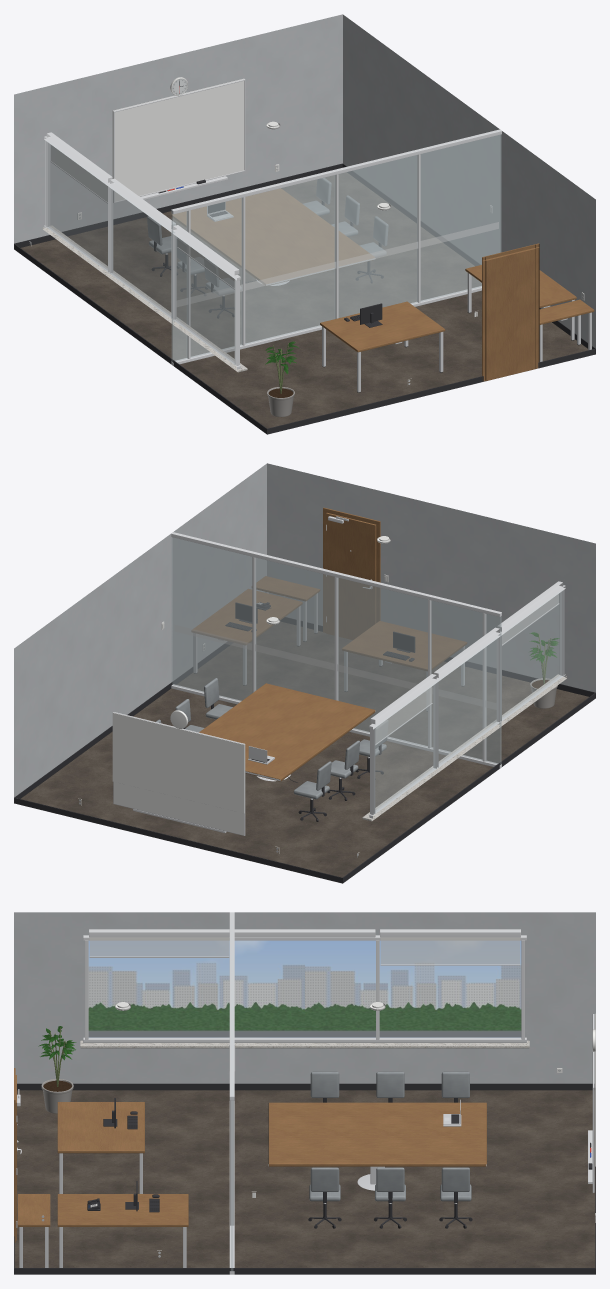
The model's file is rc_office.glb.
3 views of the same model, one above another, from view 1: azimuth 30°, elevation 25°; view 2: azimuth 150°, elevation 25°; view 3: azimuth 270°, elevation 25° (orthographic). The views are drawn at different scales.
Parts seen in each view (by area): view 1: floor, f10_유리벽, part_0, wall_z0, wall_x1, f9_창, f8_화이트보드, f0_회의 탁자, deco_door, f10_유리벽_frame, f9_창_frame, f13_책상 (+17 smaller); view 2: floor, wall_z1, wall_x1, f10_유리벽, part_0, f9_창, mirror_0, f0_회의 탁자, deco_door, f10_유리벽_frame, f9_창_frame, f8_화이트보드 (+14 smaller); view 3: floor, wall_x0, f9_창_view, f9_창, f0_회의 탁자, deco_blinds, f9_창_frame, f13_책상, f11_책상, skirt_x1, skirt_x0, f10_유리벽_frame (+11 smaller).
Boxes of the visible parts, x1,y1,x2,y2 form: floor: (21, 172, 595, 428); f10_유리벽: (172, 134, 501, 361); part_0: (172, 135, 500, 362); wall_z0: (14, 14, 342, 243); wall_x1: (343, 14, 595, 348); f9_창: (46, 141, 235, 365); f8_화이트보드: (113, 79, 245, 202); f0_회의 탁자: (171, 188, 374, 285); deco_door: (486, 248, 535, 380); f10_유리벽_frame: (171, 129, 501, 365); f9_창_frame: (42, 136, 247, 372); f13_책상: (320, 301, 445, 392); floor: (21, 622, 588, 881); wall_z1: (267, 463, 595, 692); wall_x1: (14, 463, 266, 797); f10_유리벽: (172, 537, 501, 764); part_0: (172, 537, 500, 763); f9_창: (374, 590, 563, 814); mirror_0: (112, 712, 244, 813); f0_회의 탁자: (199, 683, 375, 781); deco_door: (326, 512, 376, 639); f10_유리벽_frame: (171, 532, 501, 768); f9_창_frame: (362, 585, 567, 821); f8_화이트보드: (113, 712, 245, 835); floor: (14, 1090, 595, 1267); wall_x0: (14, 912, 595, 1083); f9_창_view: (88, 940, 521, 1037); f9_창: (89, 941, 520, 1037); f0_회의 탁자: (268, 1102, 486, 1166); deco_blinds: (89, 929, 520, 965); f9_창_frame: (80, 935, 529, 1048); f13_책상: (57, 1102, 144, 1193); f11_책상: (57, 1194, 188, 1267); skirt_x1: (14, 1268, 595, 1274); skirt_x0: (17, 1083, 594, 1090); f10_유리벽_frame: (229, 912, 235, 1274).
Size of the model in its own units: 6 by 2.7 by 8.
32 materials, 10 textured.
